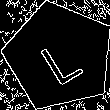L_NW: (32, 27, 86, 86)
